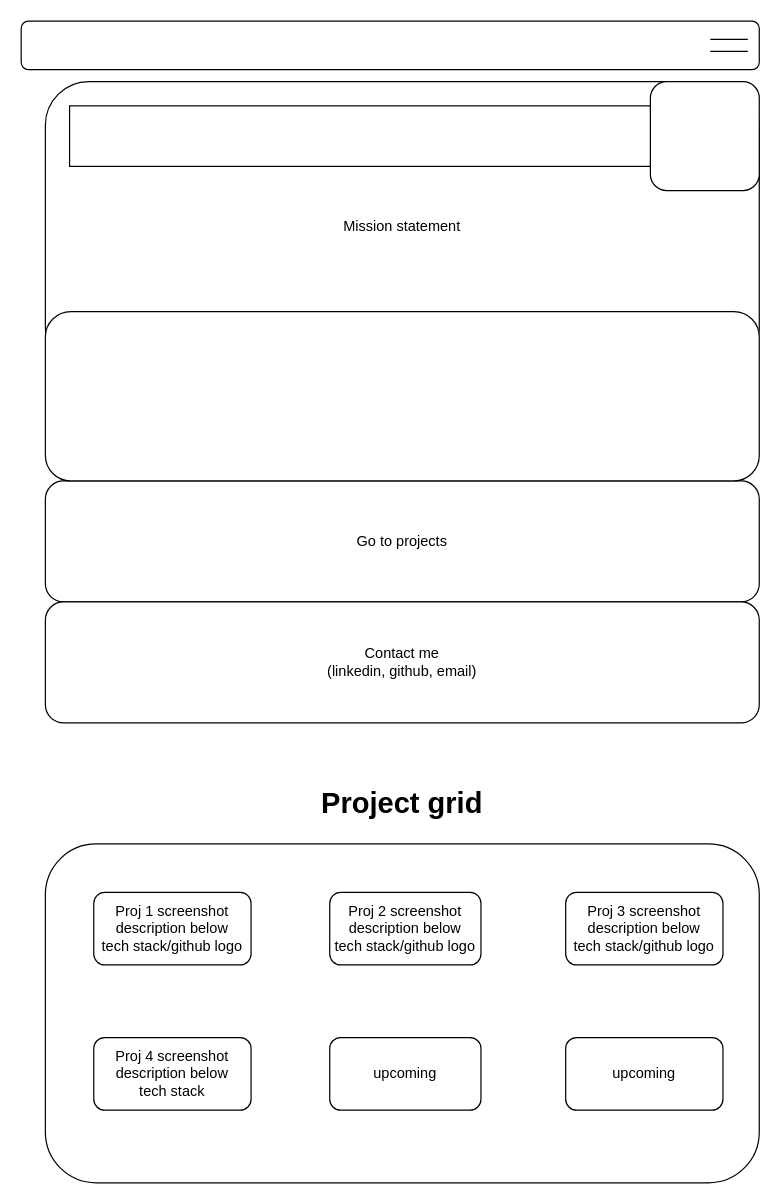
This 780x1204 diagram has some shape labels left out. Here are the shapes that lost their labels. From the top down, the centre of each, then its label:
(389,45): Matt Walters
(359,135): Large, hi-res photo that scrolls
(704,135): About Projects Contact
(401,395): About me. Headshot Languages I know images?
